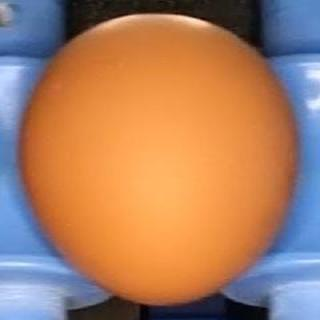Telur: (13, 14, 306, 309)
